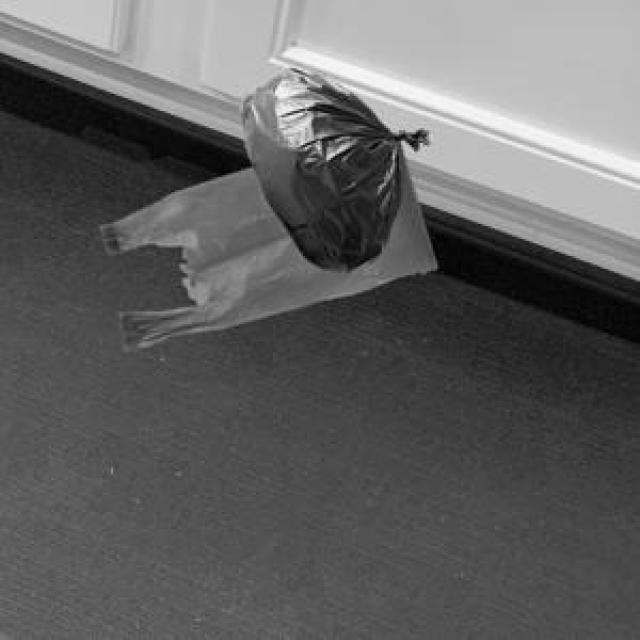miscellaneous trash: (237, 64, 425, 269)
